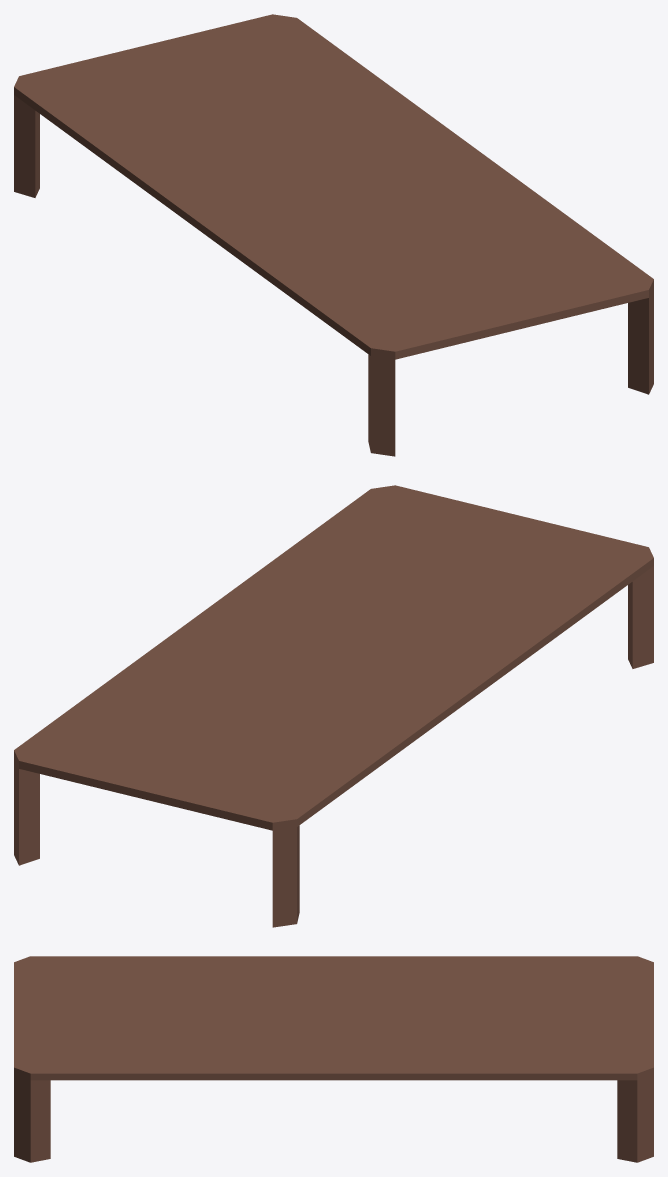
The model's file is table.gltf.
The picture shows the model from 3 angles, top to bottom: view 1: azimuth 30°, elevation 25°; view 2: azimuth 150°, elevation 25°; view 3: azimuth 270°, elevation 25°; orthographic projection. The views are drawn at different scales.
Visible parts, largest first — view 1: node-0; view 2: node-0; view 3: node-0.
Boxes of the visible parts, box(x1,y1,x2,y2) form: node-0: box(14, 14, 653, 456); node-0: box(14, 485, 653, 927); node-0: box(14, 956, 653, 1162).
Bounding box in the file's own units: 3.62 × 1.28 × 8.35.
